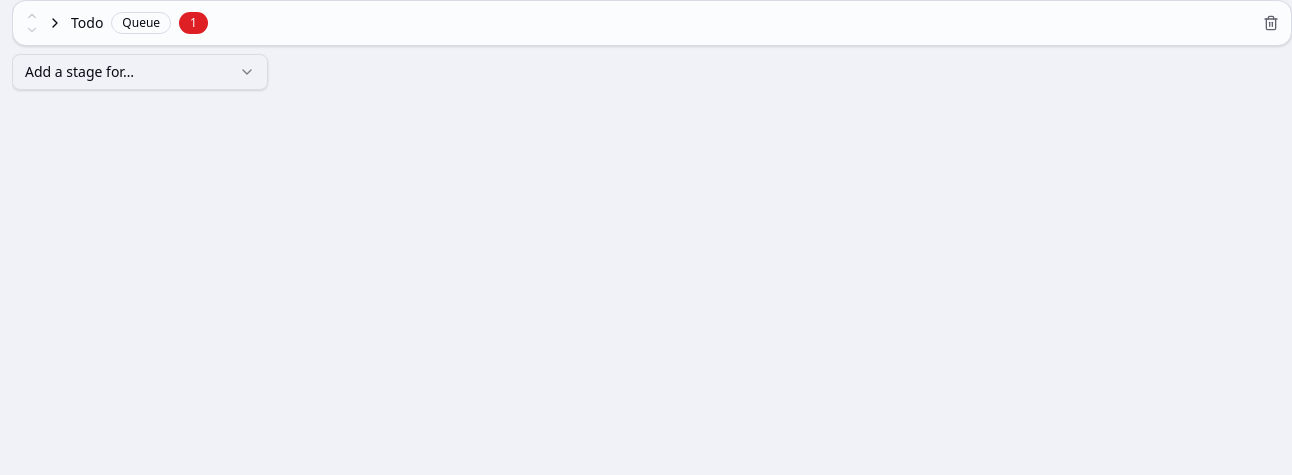
Test case: StageEditor › shows inline 422 problems once the stage row is expanded
Expected: the text "advance_on_diff needs a column param" is not shown
Click the text "Todo" at (87, 23), box [71,13,103,33]
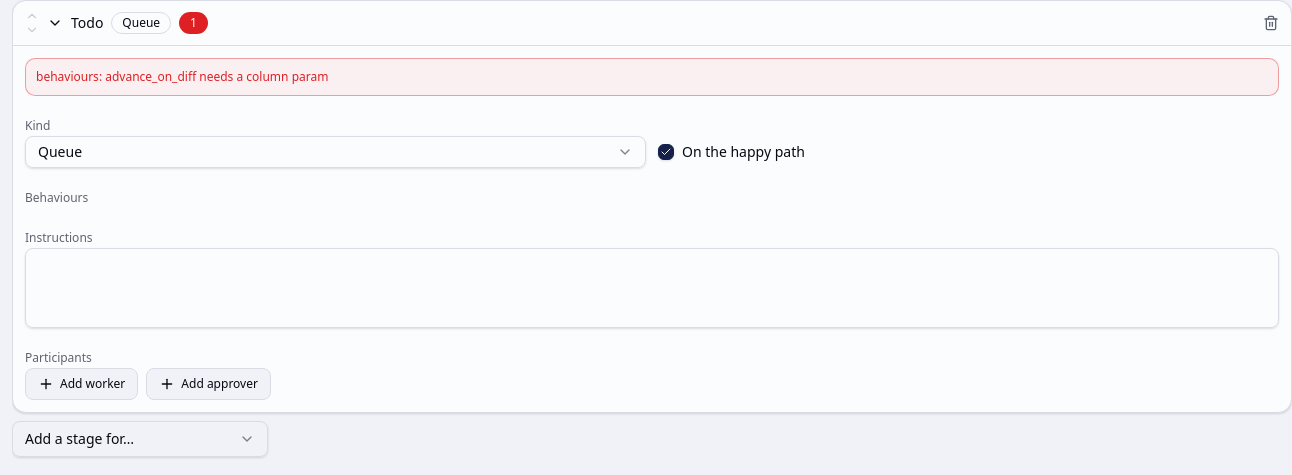
Expected: the text "advance_on_diff needs a column param" is shown, [105,68,328,85]
